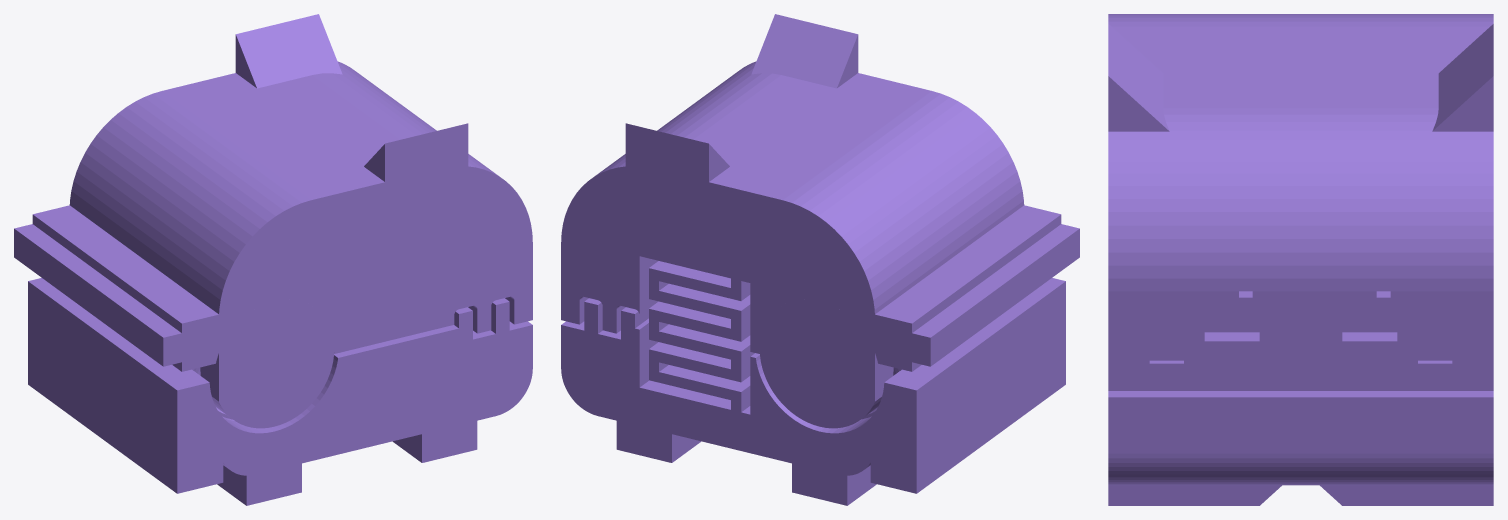
Rendered from blip-chomper.glb.
3 views of the same model, side by side, from view 1: azimuth 30°, elevation 25°; view 2: azimuth 150°, elevation 25°; view 3: azimuth 270°, elevation 25° (orthographic). The views are drawn at different scales.
Visible parts, largest first — view 1: c0; view 2: c0; view 3: c0.
Part boxes in pixels (bbox=[...]): c0: bbox=[14, 14, 532, 505]; c0: bbox=[561, 14, 1079, 505]; c0: bbox=[1108, 14, 1493, 505].
Bounding box in the file's own units: 40 × 34 × 28.
